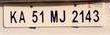1: (79, 9, 84, 23), (40, 10, 44, 23)
2: (72, 10, 78, 23)
3: (93, 10, 99, 22)
4: (85, 10, 91, 23)
5: (32, 11, 38, 23)
A: (19, 10, 26, 23)
J: (59, 10, 66, 23)
K: (9, 11, 17, 24)
M: (50, 10, 58, 23)
